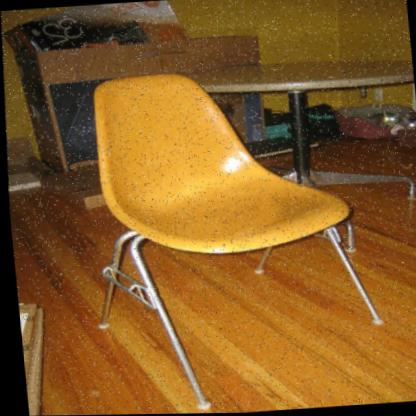Chair: (32, 45, 416, 416)
